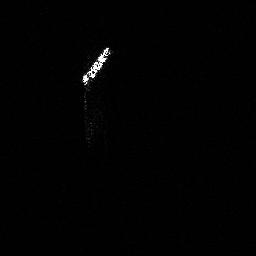ship: (78, 44, 113, 87)
